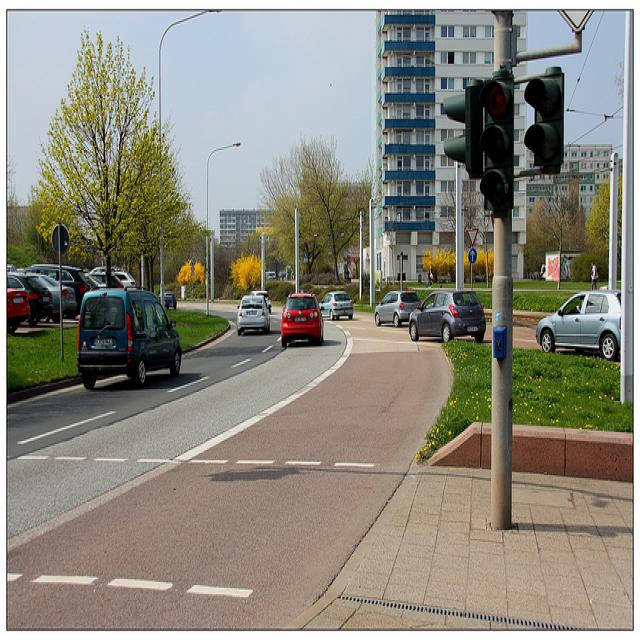Vehicle: (76, 287, 183, 391), (2, 269, 176, 325), (536, 288, 622, 360), (22, 263, 102, 315), (409, 290, 486, 344), (278, 291, 326, 346), (25, 273, 77, 323), (373, 290, 423, 328), (5, 275, 30, 334), (236, 295, 271, 335), (85, 266, 137, 290), (318, 292, 354, 322), (250, 291, 272, 309)
